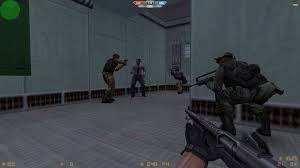gun: (183, 107, 288, 167), (183, 66, 217, 89)
